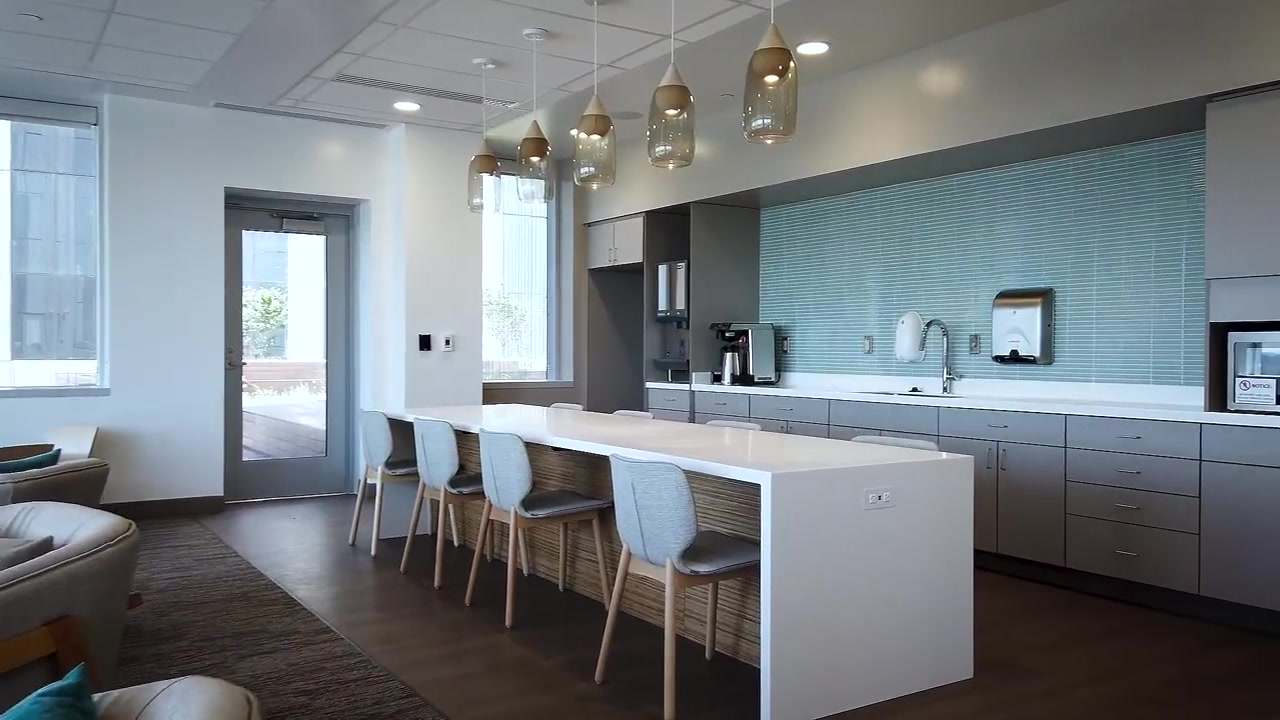cabinet: (586, 210, 643, 271)
chair: (594, 453, 761, 720), (465, 428, 615, 630), (398, 418, 503, 589), (348, 411, 460, 558)
counter: (380, 411, 973, 715), (688, 386, 1280, 609)
countertop: (391, 409, 968, 466), (703, 381, 1280, 421)
dispenser: (991, 287, 1056, 365), (895, 310, 925, 362)
door_handle: (229, 361, 248, 369)
faucet: (919, 319, 961, 394)
handle: (1115, 503, 1140, 509), (1115, 550, 1138, 556), (1000, 449, 1006, 471), (1116, 435, 1142, 440), (1115, 469, 1141, 474), (986, 448, 992, 469), (987, 424, 1008, 428), (608, 248, 612, 262), (777, 408, 794, 411), (615, 248, 618, 261), (664, 398, 676, 401), (714, 403, 727, 405)
sink: (895, 389, 965, 400)
sofa: (1, 501, 140, 711), (1, 662, 260, 720), (1, 426, 110, 548)
